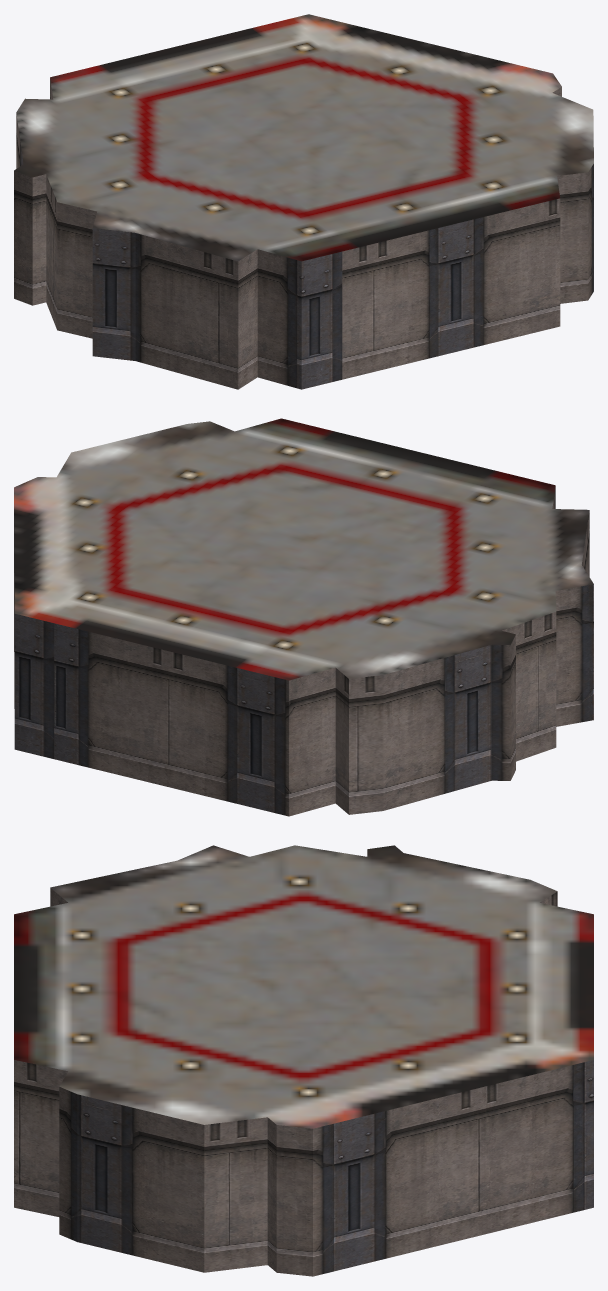
Rendered from bsealed_medium_52.glb.
The picture shows the model from 3 angles, top to bottom: view 1: azimuth 30°, elevation 25°; view 2: azimuth 150°, elevation 25°; view 3: azimuth 270°, elevation 25°; orthographic projection. The views are drawn at different scales.
Parts seen in each view (by area): view 1: buildings/saxarba/bsealed_medium/bsealed_medium_52; view 2: buildings/saxarba/bsealed_medium/bsealed_medium_52; view 3: buildings/saxarba/bsealed_medium/bsealed_medium_52.
Part boxes in pixels (x1,y1,x2,y2): buildings/saxarba/bsealed_medium/bsealed_medium_52: [14, 14, 593, 389]; buildings/saxarba/bsealed_medium/bsealed_medium_52: [14, 418, 593, 816]; buildings/saxarba/bsealed_medium/bsealed_medium_52: [14, 845, 593, 1276].
Size of the model in its own units: 74 by 18 by 64.
